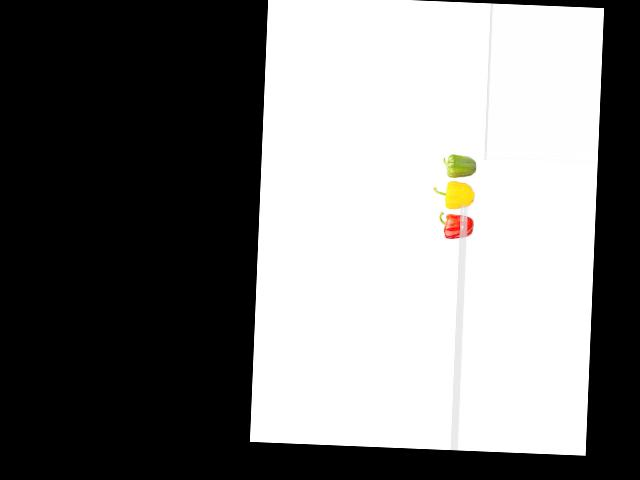bell_pepper: (437, 150, 479, 177)
